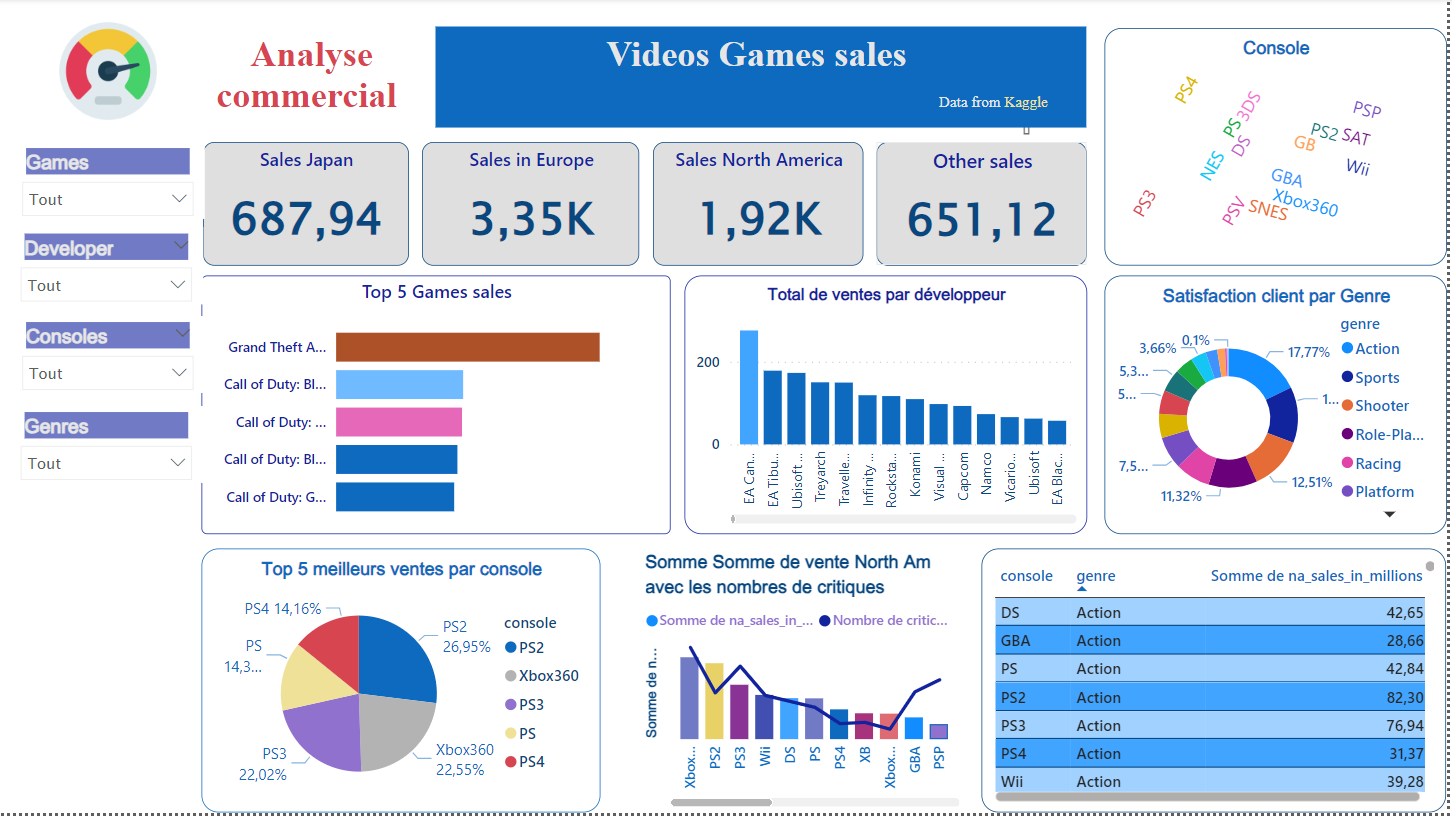

The dashboard page shown, as its layout file describes it:
{"tool":"powerbi","page":{"name":"games_dash","canvas":[1280,720],"ordinal":0},"visuals":[{"type":"card","title":"Sales Japan","fields":{"Values":["Sum(sales.japan_sales_in_millions)"]},"box":[180.2,127.2,181.7,109],"z":0},{"type":"card","title":"Sales in Europe","fields":{"Values":["Sum(sales.na_sales_in_millions)"]},"box":[374,127.2,192.3,109],"z":1000},{"type":"card","title":"Sales North America","fields":{"Values":["Sum(sales.pal_sales_in_millions)"]},"box":[578.4,127.2,186.2,109],"z":2000},{"type":"card","title":"Other sales ","fields":{"Values":["Sum(sales.other_sales_in_millions)"]},"box":[775.3,127.2,186.2,109],"z":3000},{"type":"barChart","title":"Top 5 Games sales ","fields":{"Category":["games.title"],"Y":["Sum(sales.total_sales_in_millions)"]},"box":[178.7,245.3,414.9,228.6],"z":4000},{"type":"image","box":[33.3,15.1,127.2,99.9],"z":5000},{"type":"textbox","box":[142.3,25.7,275.6,89.3],"z":6000},{"type":"slicer","fields":{"Values":["games.title"]},"box":[10.6,127.2,171.1,68.1],"z":7000},{"type":"slicer","fields":{"Values":["developer.developer"]},"box":[9.1,202.9,171.1,68.1],"z":8000},{"type":"slicer","fields":{"Values":["console.console"]},"box":[10.6,281.6,171.1,68.1],"z":9000},{"type":"slicer","fields":{"Values":["genre.genre"]},"box":[9.1,360.4,171.1,68.1],"z":10000},{"type":"clusteredColumnChart","title":"Total de ventes par développeur ","fields":{"Category":["developer.developer"],"Y":["Sum(sales.total_sales_in_millions)"]},"box":[605.7,245.3,355.8,228.6],"z":11000},{"type":"pieChart","title":"Top 5 meilleurs ventes par console","fields":{"Category":["console.console"],"Y":["Sum(sales.total_sales_in_millions)"]},"box":[178.7,486.1,352.8,233.2],"z":12000},{"type":"donutChart","title":"Satisfaction client par Genre","fields":{"Y":["CountNonNull(games.critic_score)"],"Category":["genre.genre"]},"box":[976.7,245.3,302.8,228.6],"z":13000},{"type":"tableEx","fields":{"Values":["console.console","genre.genre","Sum(sales.na_sales_in_millions)"]},"box":[869.2,486.1,410.3,233.2],"z":14000},{"type":"textbox","box":[386.1,25.7,575.4,89.3],"z":15000},{"type":"lineStackedColumnComboChart","title":"Somme Somme de vente North Am avec les nombres de critiques","fields":{"Category":["console.console"],"Y2":["CountNonNull(games.critic_score)"],"Y":["Sum(sales.na_sales_in_millions)"]},"box":[566.3,486.1,287.7,233.2],"z":16000}]}

Visuals, with their boxes in screenshot pixels (x1, y1, x2, y2), scaled from the page's 1280x720 canvas onto the 1452x818 screenshot:
"Sales Japan" card: <box>204,145,411,268</box>
"Sales in Europe" card: <box>424,145,642,268</box>
"Sales North America" card: <box>656,145,867,268</box>
"Other sales " card: <box>879,145,1091,268</box>
"Top 5 Games sales " barChart: <box>203,279,673,538</box>
image: <box>38,17,182,131</box>
textbox: <box>161,29,474,131</box>
slicer - games.title: <box>12,145,206,222</box>
slicer - developer.developer: <box>10,231,204,308</box>
slicer - console.console: <box>12,320,206,397</box>
slicer - genre.genre: <box>10,409,204,487</box>
"Total de ventes par développeur " clusteredColumnChart: <box>687,279,1091,538</box>
"Top 5 meilleurs ventes par console" pieChart: <box>203,552,603,817</box>
"Satisfaction client par Genre" donutChart: <box>1108,279,1451,538</box>
tableEx - console.console x genre.genre: <box>986,552,1451,817</box>
textbox: <box>438,29,1091,131</box>
"Somme Somme de vente North Am avec les nombres de critiques" lineStackedColumnComboChart: <box>642,552,969,817</box>
